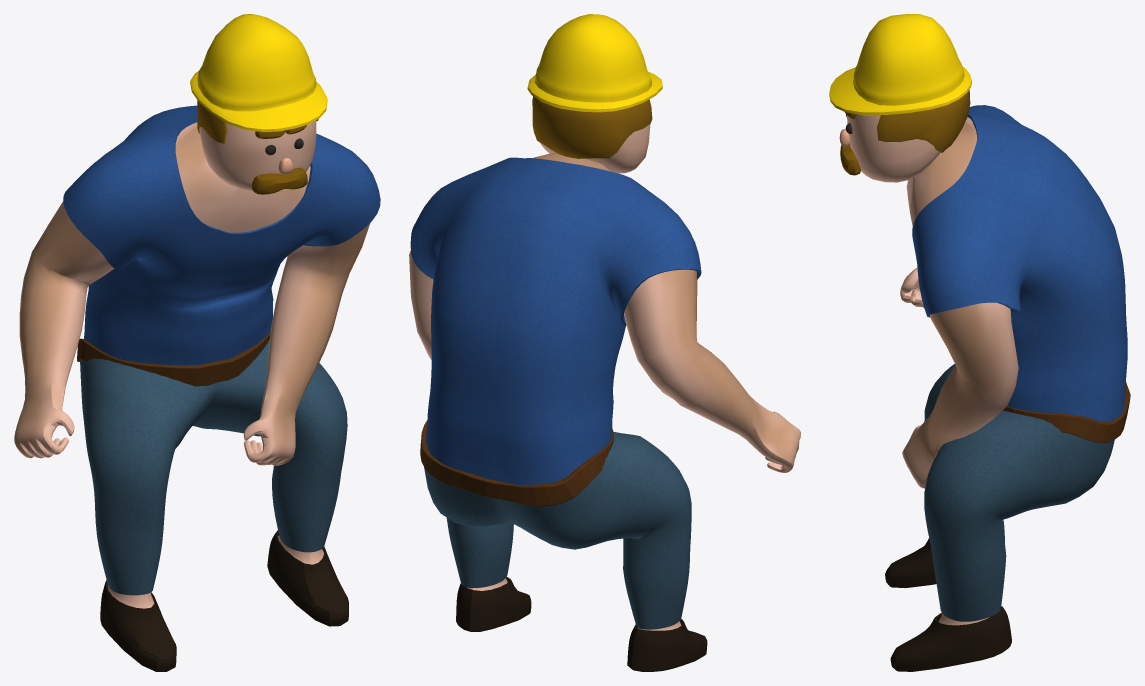
The model's file is dad POSE.fbx.
3 views of the same model, side by side, from view 1: azimuth 30°, elevation 25°; view 2: azimuth 150°, elevation 25°; view 3: azimuth 270°, elevation 25° (orthographic).
Visible parts, largest first — view 1: Cube.002; view 2: Cube.002; view 3: Cube.002.
Part boxes in pixels (x1,y1,x2,y2): Cube.002: (14, 14, 380, 671); Cube.002: (409, 14, 800, 671); Cube.002: (829, 14, 1130, 671).
Size of the model in its own units: 278 by 448 by 199.
